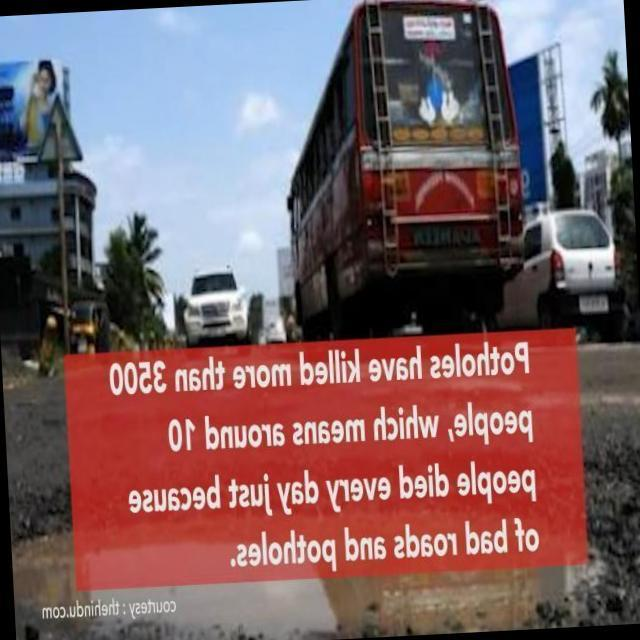Pothole: (12, 507, 612, 640)
